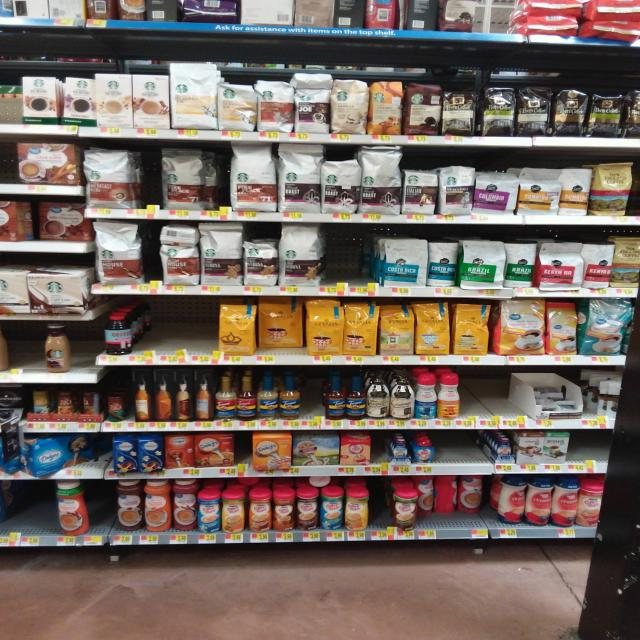void: (326, 228, 376, 299), (174, 301, 216, 370), (440, 433, 485, 480), (140, 300, 168, 374), (491, 371, 524, 428), (13, 326, 42, 390), (0, 62, 24, 135), (29, 483, 53, 552), (0, 484, 23, 553), (592, 369, 616, 433), (92, 481, 114, 545), (464, 373, 486, 435), (370, 482, 392, 543), (574, 435, 606, 475), (74, 326, 93, 388)
